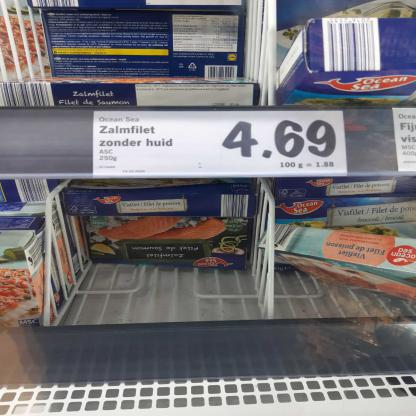prtg: (94, 112, 349, 177), (393, 109, 415, 173)
